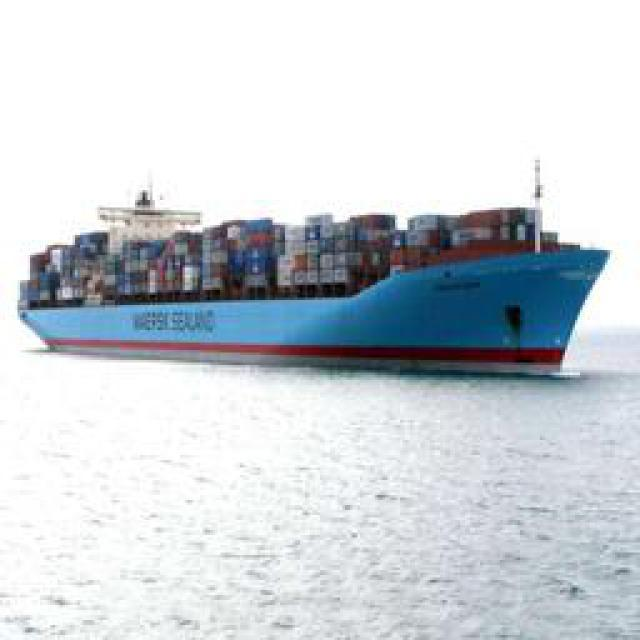Ship: (16, 182, 619, 370)
